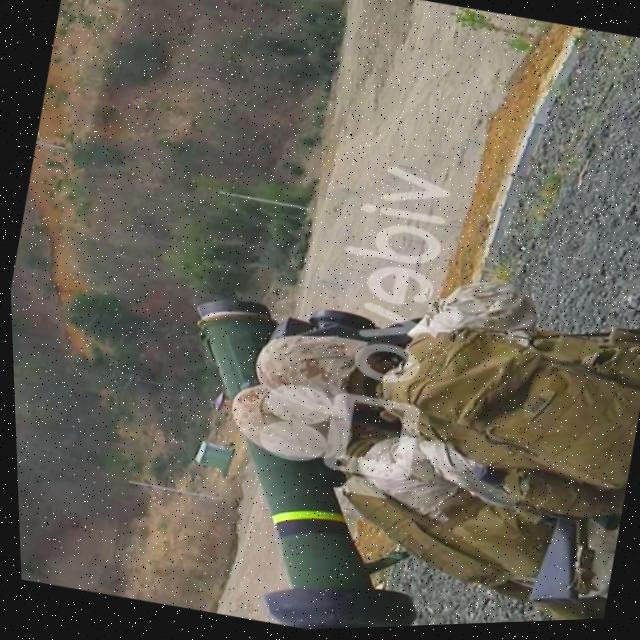rocket: (129, 287, 468, 637)
